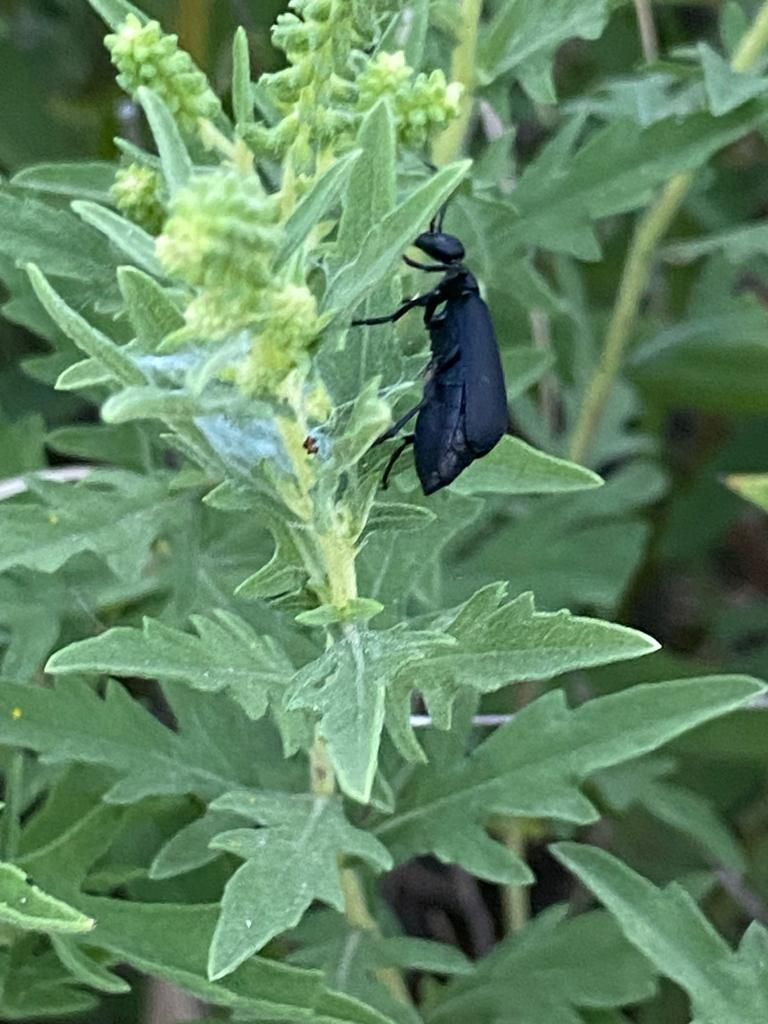blister_beetle: (300, 147, 598, 544)
